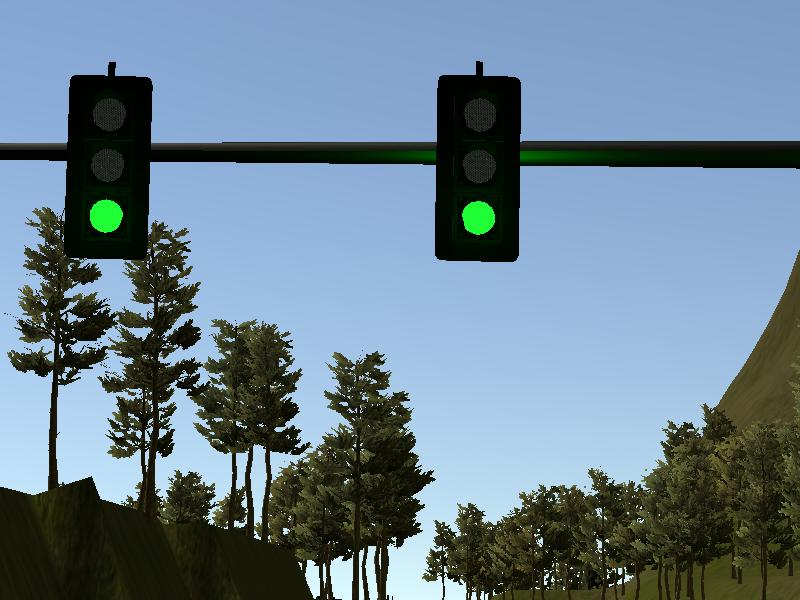green: (434, 73, 521, 264), (66, 74, 151, 260)
